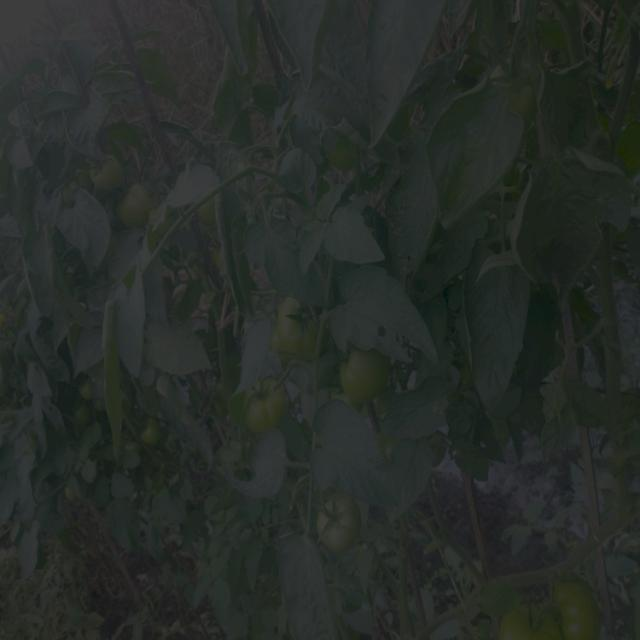tomato: (337, 338, 396, 402), (272, 299, 327, 366), (489, 594, 561, 640), (242, 374, 288, 436), (320, 498, 360, 555), (114, 179, 152, 224), (87, 155, 120, 188), (140, 416, 166, 447), (75, 403, 98, 433), (73, 376, 98, 402)
